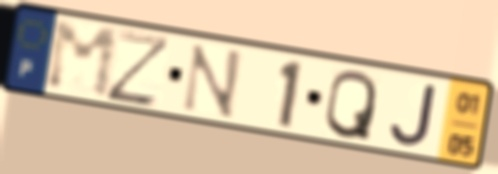1: (276, 57, 307, 131)
J: (387, 81, 441, 150)
M: (44, 18, 122, 102)
N: (178, 41, 246, 122)
Q: (321, 67, 380, 143)
Z: (103, 26, 175, 111)
